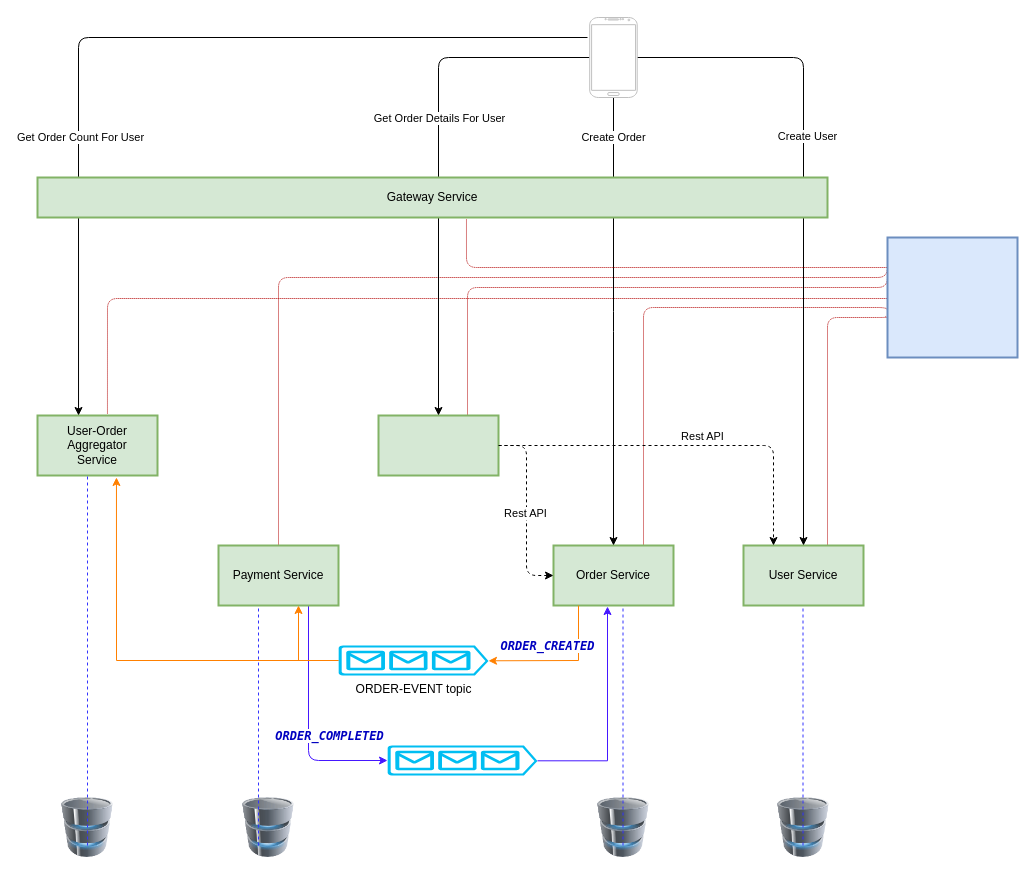
The diagram is 1036 pixels wide and 875 high, and some of its shapes have lost their labels. Each missing label, with the centre of its shape:
"PAYMENT-EVENT topic" goes at [462,760].
"Service Discovery [ CONSUL ]" goes at [952,297].
"User-Order Orchestrator Service" goes at [438,445].
